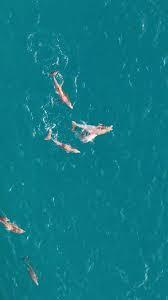Animal: (35, 125, 84, 159), (47, 67, 80, 115), (72, 121, 121, 143), (18, 253, 45, 290), (0, 207, 27, 236)
